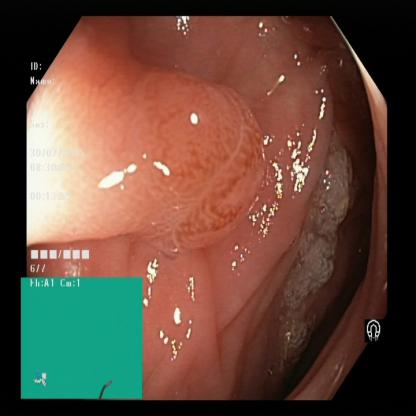Labels: (20, 244, 144, 399), (20, 40, 68, 98), (366, 310, 388, 353)
Polyps: (106, 92, 263, 233)
